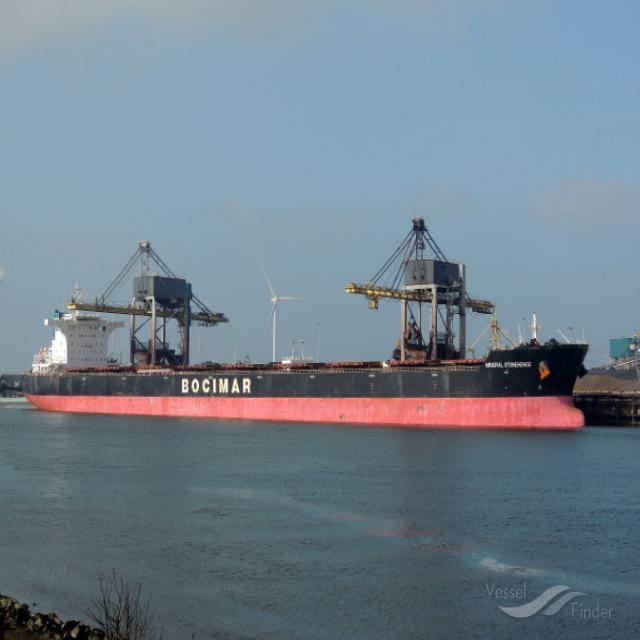Bulk Carrier: (20, 289, 598, 436)
